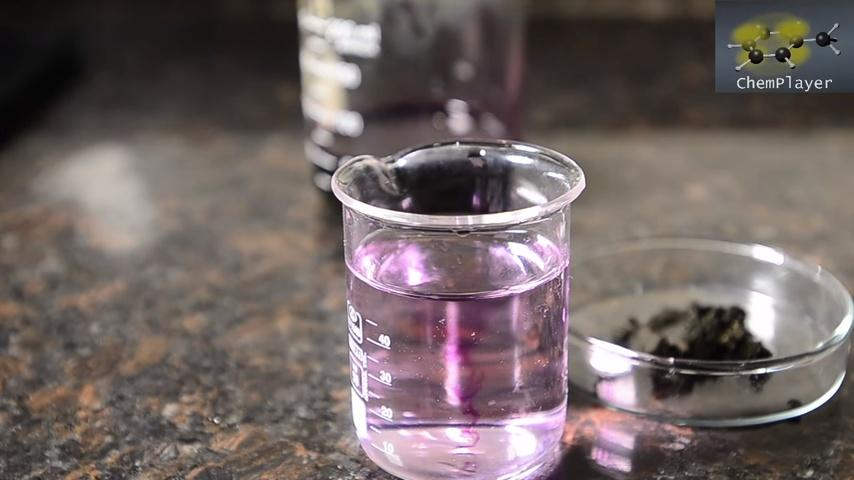Beaker: (331, 121, 581, 474)
